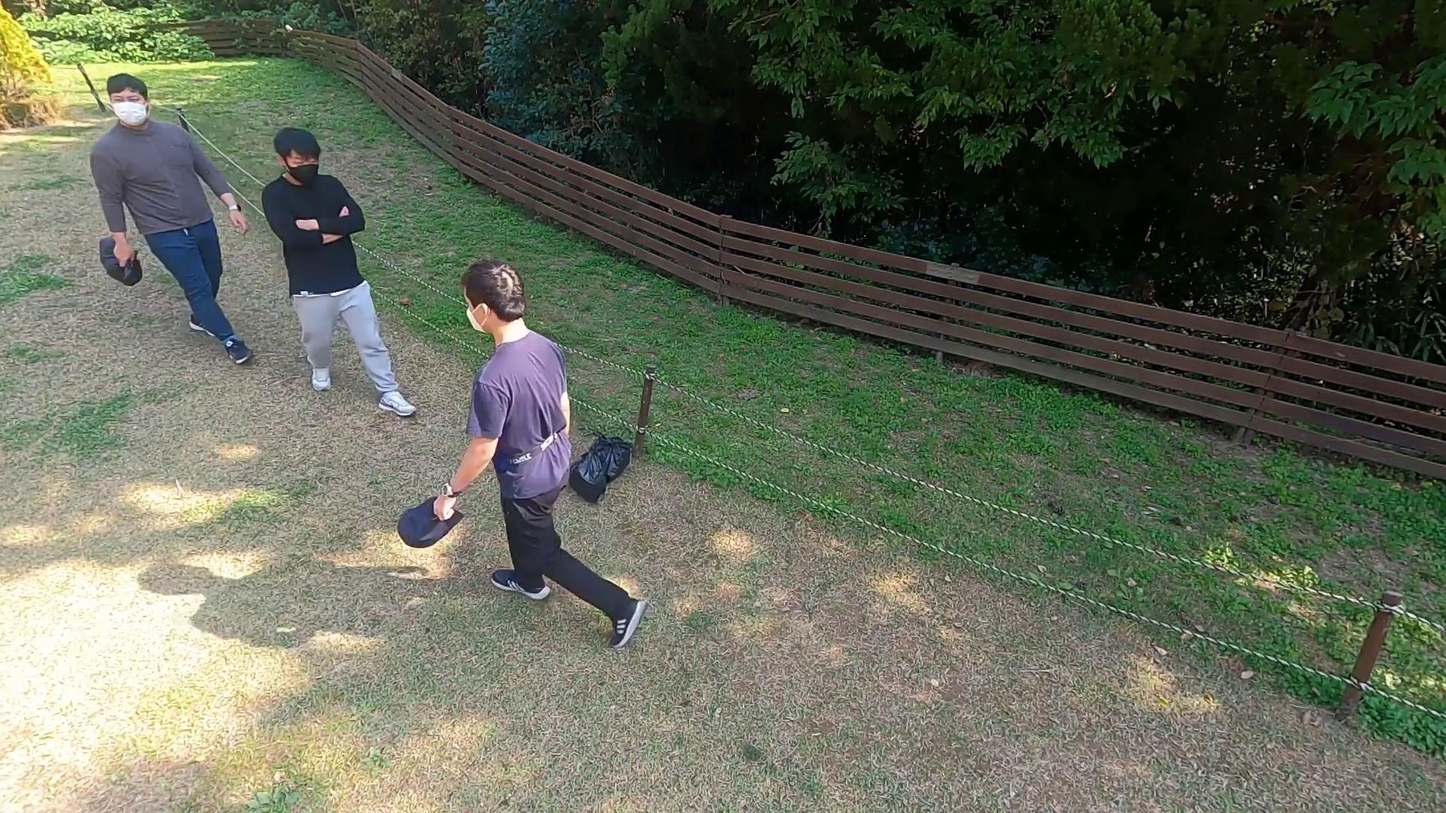person: (389, 257, 647, 648), (87, 67, 254, 374), (255, 125, 419, 418)
trash: (93, 229, 151, 290), (560, 442, 614, 507), (585, 429, 639, 488)
